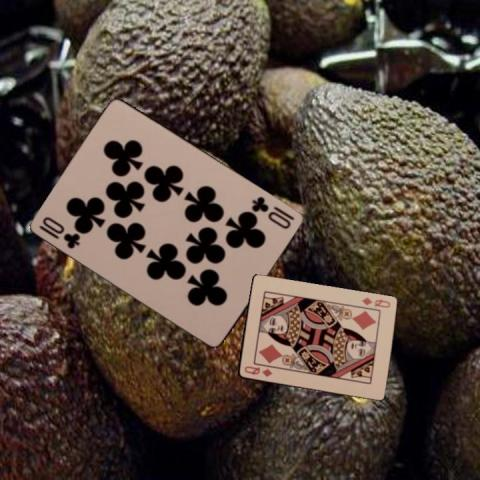10c: (249, 192, 296, 230), (37, 213, 82, 250)
Qd: (242, 363, 274, 379), (359, 295, 391, 309)
